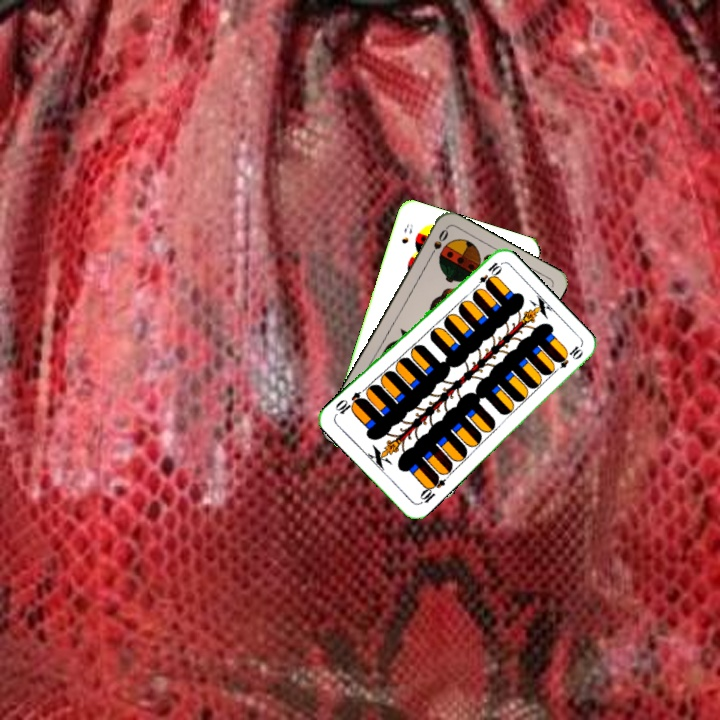E10: (470, 258, 504, 293), (415, 471, 448, 507)
S8: (397, 220, 416, 246)
SO: (425, 225, 451, 262)
